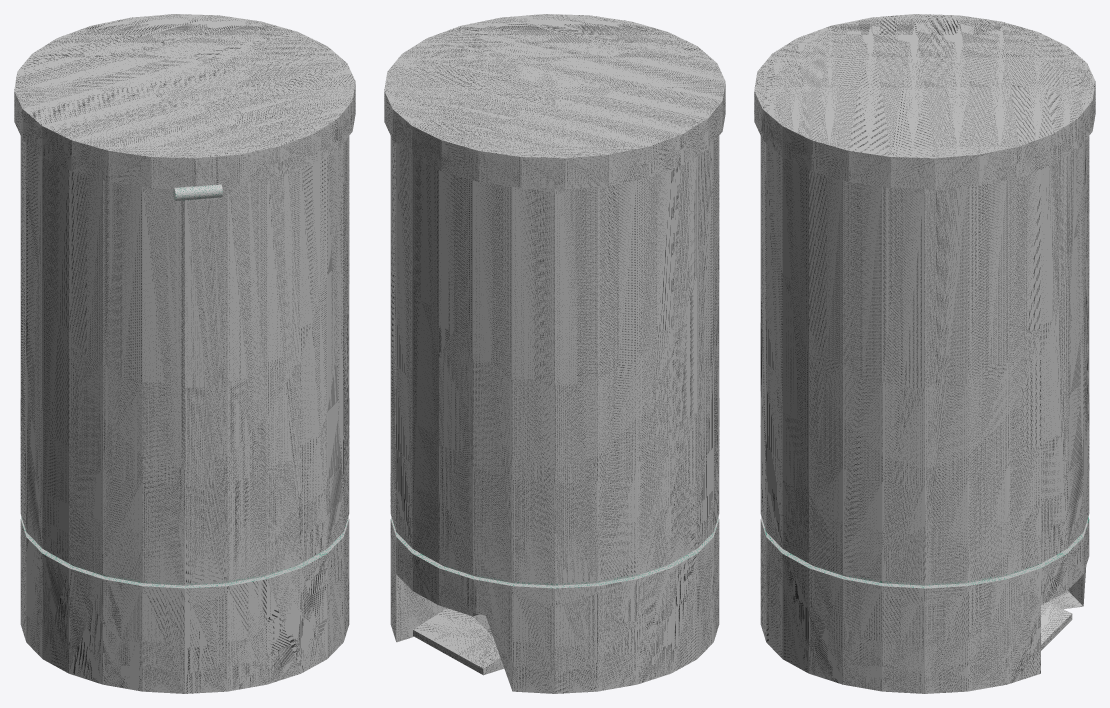
3 renders of one model, left to right at view 1: azimuth 30°, elevation 25°; view 2: azimuth 150°, elevation 25°; view 3: azimuth 270°, elevation 25°, orthographic.
Visible parts, largest first — view 1: mesh1_mesh1-geometry, mesh2_mesh2-geometry; view 2: mesh1_mesh1-geometry; view 3: mesh1_mesh1-geometry.
Boxes of the visible parts, x1,y1,x2,y2 form: mesh1_mesh1-geometry: [14, 14, 355, 693]; mesh2_mesh2-geometry: [173, 184, 222, 201]; mesh1_mesh1-geometry: [384, 14, 725, 693]; mesh1_mesh1-geometry: [754, 14, 1095, 693].
Size of the model in its own units: 0.4461 by 0.7759 by 0.4461.
